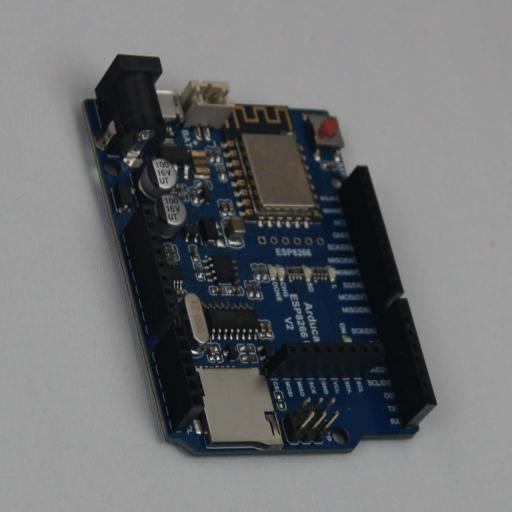Arduino Uno Camera Shield: (77, 54, 437, 458)
